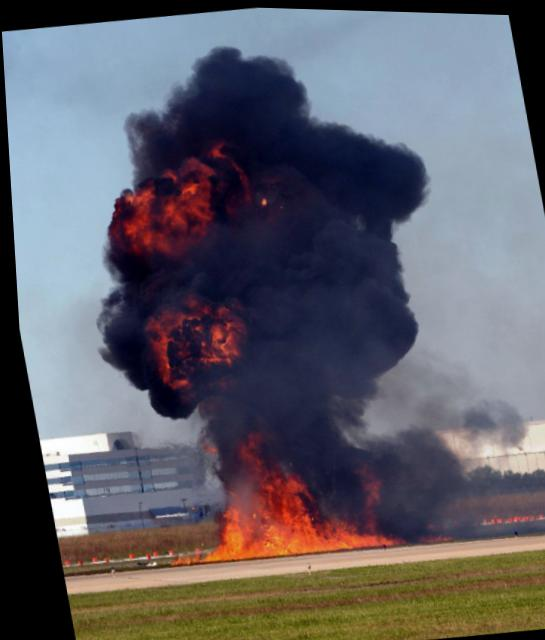fire: (195, 515, 386, 566), (118, 179, 212, 253), (244, 461, 313, 556), (143, 317, 175, 383), (200, 311, 242, 359), (210, 499, 241, 556), (229, 429, 259, 469), (354, 469, 374, 504)
